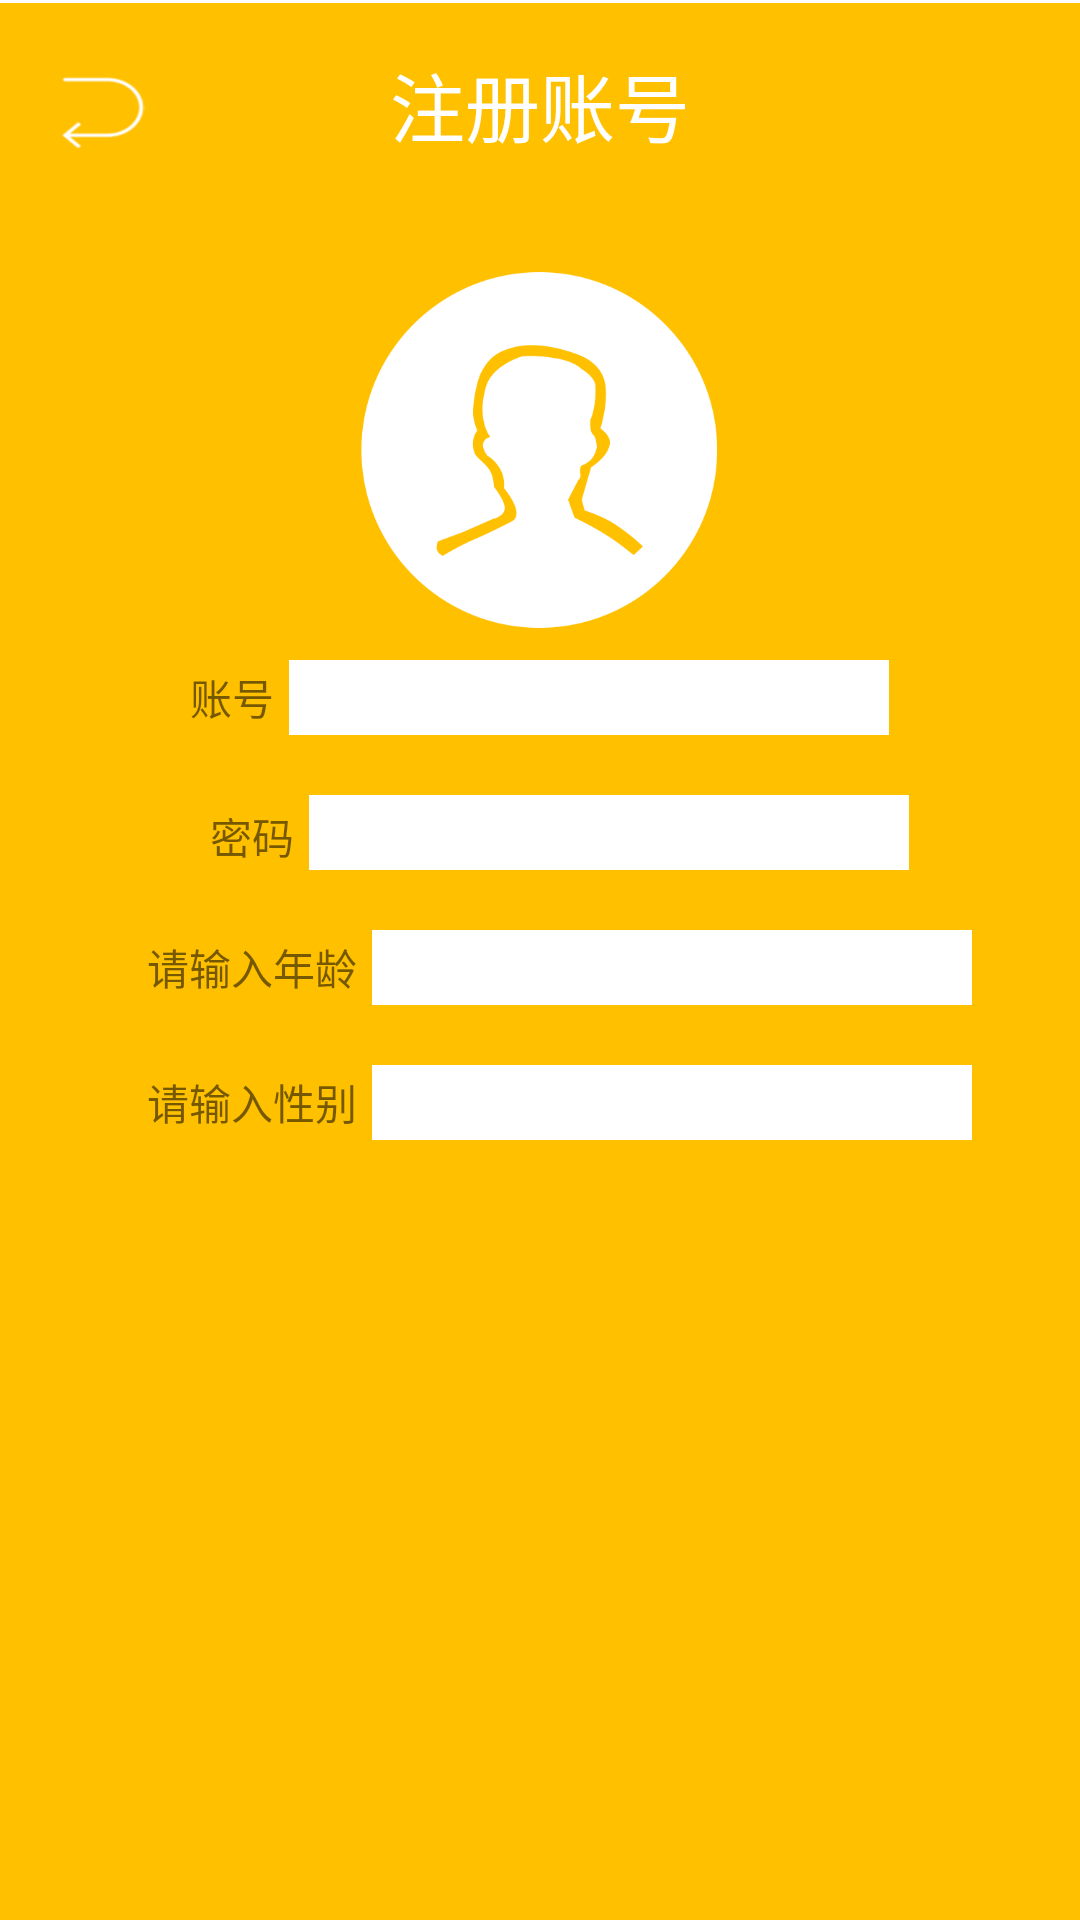

Where icons sit on this 1080x1920 app screen, as [x1=x1, y1=y1, x2=x2, y2=y2]:
fanhui: [x1=62, y1=77, x2=145, y2=148]
zctouxiang: [x1=361, y1=272, x2=717, y2=628]
